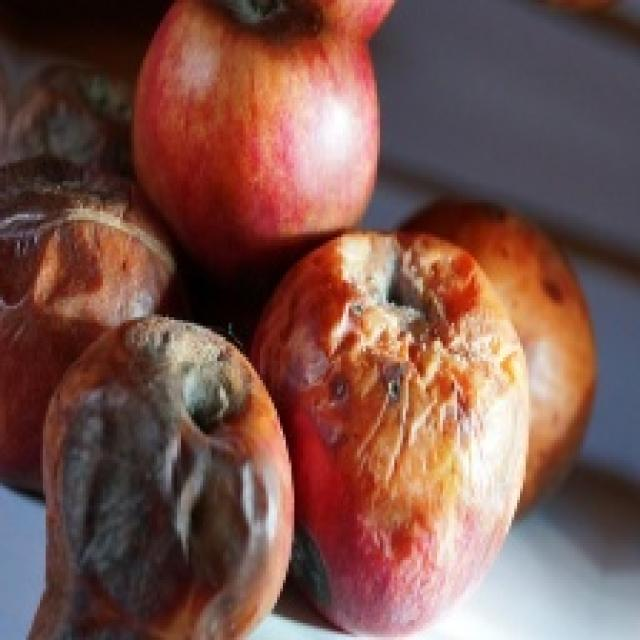rotten_apple: (291, 242, 528, 632), (77, 326, 286, 633), (141, 0, 376, 228), (0, 161, 182, 328)
